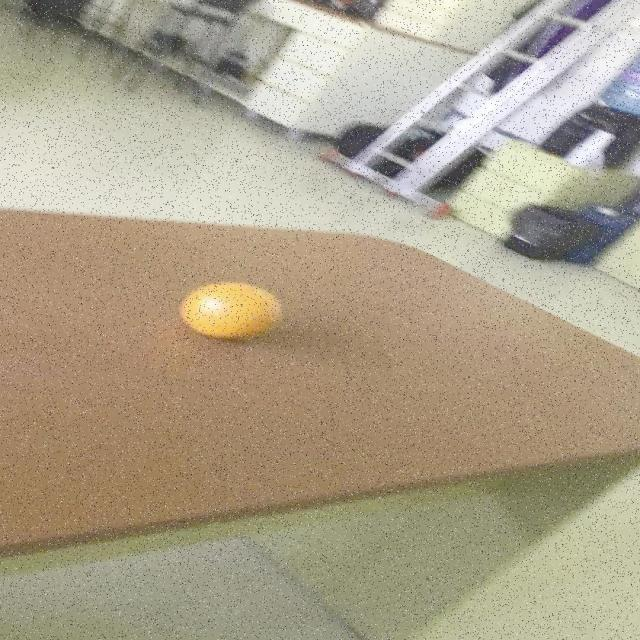Orange: (178, 280, 282, 338)
